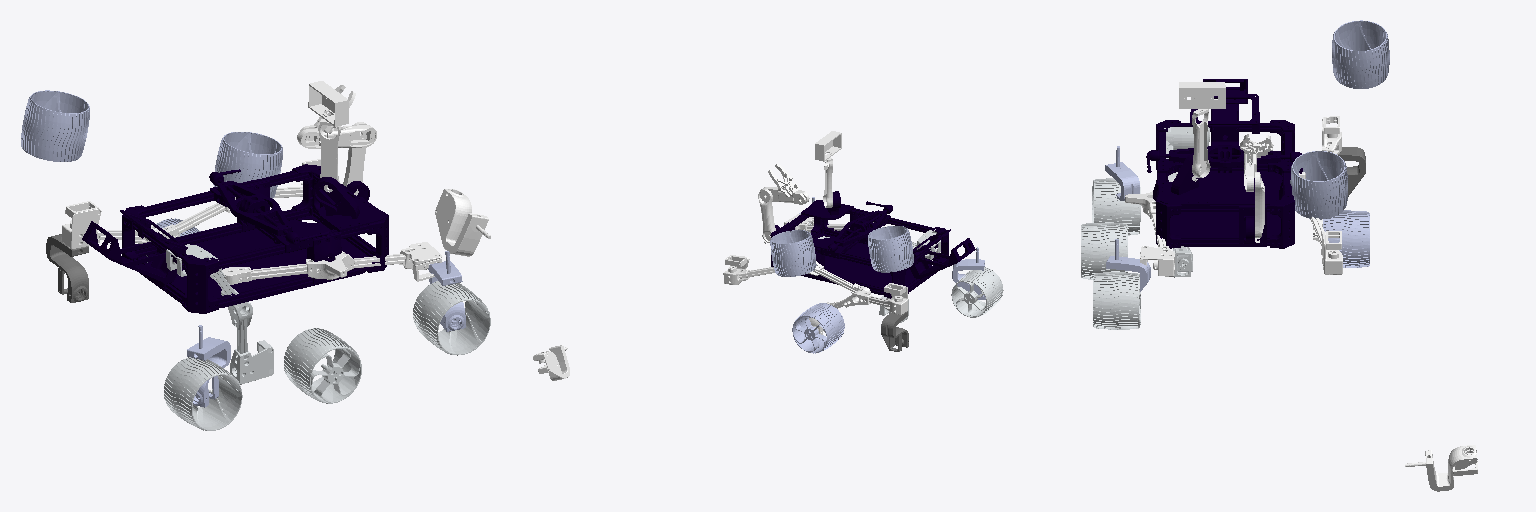
--- Render facts (derived) ---
Views: 3 orthographic renders of the robot side by side, from view 1: azimuth 30°, elevation 25°; view 2: azimuth 150°, elevation 25°; view 3: azimuth 270°, elevation 25°.
Robot: new_spirit_mars — 21 links, 20 joints (10 revolute, 10 continuous); root link RoverChassis; default pose: every joint at zero.
Links seen in each view (by area): view 1: RoverChassis, MidWheel2, WheelRS1, WheelRS2, WheelsFS2, Rocker2, Bogie2, WheelFS1, FrontSteering1, RearSteering1, Bogie1, RearSteering2 (+6 smaller); view 2: RoverChassis, WheelFS1, MidWheel1, WheelRS1, WheelRS2, Rocker1, Bogie1, FrontSteering1, RearSteering1, RearSteering2, Arm, MastHead (+1 smaller); view 3: RoverChassis, WheelRS1, WheelFS1, WheelsFS2, MidWheel2, MidWheel1, WheelRS2, FrontSteering1, Rocker2, MastHead, Bogie2, Rocker1 (+6 smaller).
Boxes of the visible links, x1,y1,x2,y2 form: RoverChassis: [82, 164, 388, 313]; MidWheel2: [284, 328, 361, 403]; WheelRS1: [21, 90, 89, 161]; WheelRS2: [164, 357, 242, 430]; WheelsFS2: [413, 281, 490, 355]; Rocker2: [222, 242, 442, 284]; Bogie2: [166, 244, 273, 384]; WheelFS1: [213, 132, 282, 198]; FrontSteering1: [435, 189, 490, 256]; RearSteering1: [46, 234, 88, 302]; Bogie1: [61, 201, 156, 248]; RearSteering2: [187, 325, 230, 407]; RoverChassis: [770, 191, 975, 298]; WheelFS1: [770, 230, 816, 276]; MidWheel1: [792, 303, 844, 353]; WheelRS1: [868, 226, 913, 272]; WheelRS2: [951, 267, 1003, 317]; Rocker1: [723, 255, 870, 293]; Bogie1: [809, 283, 907, 334]; FrontSteering1: [533, 345, 569, 380]; RearSteering1: [881, 297, 908, 351]; RearSteering2: [952, 247, 985, 299]; Arm: [758, 189, 775, 243]; MastHead: [815, 131, 841, 161]; RoverChassis: [1146, 79, 1302, 248]; WheelRS1: [1332, 20, 1389, 88]; WheelFS1: [1290, 151, 1347, 219]; WheelsFS2: [1093, 272, 1140, 329]; MidWheel2: [1081, 223, 1127, 279]; MidWheel1: [1323, 210, 1369, 267]; WheelRS2: [1092, 178, 1140, 235]; FrontSteering1: [1405, 445, 1477, 491]; Rocker2: [1125, 172, 1177, 276]; MastHead: [1179, 82, 1225, 108]; Bogie2: [1164, 127, 1209, 277]; Rocker1: [1299, 172, 1342, 274].
Size in the robot's own frame: 1.11 by 0.8534 by 0.6877 metres.
Meshes: 21 distinct files referenced, 21 mesh visuals loaded (21 binary STL).

URDF robot description (new_spirit_mars):
<?xml version="1.0" encoding="utf-8"?>
<!-- This URDF was automatically created by SolidWorks to URDF Exporter! Originally created by Stephen Brawner ([email redacted]) 
     Commit Version: 1.5.1-0-g916b5db  Build Version: 1.5.7152.31018
     For more information, please see http://wiki.ros.org/sw_urdf_exporter -->
<robot
  name="new_spirit_mars">
  <link
    name="RoverChassis">
    <inertial>
      <origin
        xyz="0.0093614 -9.9176E-05 0.050783"
        rpy="0 0 0" />
      <mass
        value="2.5513" />
      <inertia
        ixx="0.0059302"
        ixy="-2.3769E-06"
        ixz="8.4014E-05"
        iyy="0.013"
        iyz="-1.4168E-05"
        izz="0.017599" />
    </inertial>
    <visual>
      <origin
        xyz="0 0 0"
        rpy="0 0 0" />
      <geometry>
        <mesh
          filename="package://new_spirit_mars/meshes/RoverChassis.STL" />
      </geometry>
      <material
        name="">
        <color
          rgba="0.094118 0 0.20784 1" />
      </material>
    </visual>
    <collision>
      <origin
        xyz="0 0 0"
        rpy="0 0 0" />
      <geometry>
        <mesh
          filename="package://new_spirit_mars/meshes/RoverChassis.STL" />
      </geometry>
    </collision>
  </link>
  <link
    name="MastArm">
    <inertial>
      <origin
        xyz="-0.00021473 0.051397 -0.00073642"
        rpy="0 0 0" />
      <mass
        value="0.040089" />
      <inertia
        ixx="8.1919E-05"
        ixy="1.6871E-09"
        ixz="5.5106E-10"
        iyy="5.8703E-06"
        iyz="-5.4206E-07"
        izz="8.6546E-05" />
    </inertial>
    <visual>
      <origin
        xyz="0 0 0"
        rpy="0 0 0" />
      <geometry>
        <mesh
          filename="package://new_spirit_mars/meshes/MastArm.STL" />
      </geometry>
      <material
        name="">
        <color
          rgba="1 1 1 1" />
      </material>
    </visual>
    <collision>
      <origin
        xyz="0 0 0"
        rpy="0 0 0" />
      <geometry>
        <mesh
          filename="package://new_spirit_mars/meshes/MastArm.STL" />
      </geometry>
    </collision>
  </link>
  <joint
    name="RoverChassis_Mast"
    type="revolute">
    <origin
      xyz="0.13149 -0.053006 0.14751"
      rpy="1.5708 -0.0056094 2.3562" />
    <parent
      link="RoverChassis" />
    <child
      link="MastArm" />
    <axis
      xyz="0 0 -1" />
    <limit
      lower="0"
      upper="0"
      effort="0"
      velocity="0" />
  </joint>
  <link
    name="MastHead">
    <inertial>
      <origin
        xyz="-0.0013429 0.00089648 -0.022625"
        rpy="0 0 0" />
      <mass
        value="0.037642" />
      <inertia
        ixx="5.6108E-05"
        ixy="-1.2333E-09"
        ixz="7.2038E-08"
        iyy="1.6403E-05"
        iyz="8.3386E-08"
        izz="4.6655E-05" />
    </inertial>
    <visual>
      <origin
        xyz="0 0 0"
        rpy="0 0 0" />
      <geometry>
        <mesh
          filename="package://new_spirit_mars/meshes/MastHead.STL" />
      </geometry>
      <material
        name="">
        <color
          rgba="1 1 1 1" />
      </material>
    </visual>
    <collision>
      <origin
        xyz="0 0 0"
        rpy="0 0 0" />
      <geometry>
        <mesh
          filename="package://new_spirit_mars/meshes/MastHead.STL" />
      </geometry>
    </collision>
  </link>
  <joint
    name="MastArm_MastHead"
    type="revolute">
    <origin
      xyz="0.00029854 0.15045 0.004"
      rpy="1.5708 0.79479 0" />
    <parent
      link="MastArm" />
    <child
      link="MastHead" />
    <axis
      xyz="0 0 1" />
    <limit
      lower="0"
      upper="0"
      effort="0"
      velocity="0" />
  </joint>
  <link
    name="Arm">
    <inertial>
      <origin
        xyz="-0.00013011 0.057834 0.0017688"
        rpy="0 0 0" />
      <mass
        value="0.065681" />
      <inertia
        ixx="0.00010918"
        ixy="-1.6866E-09"
        ixz="2.4327E-10"
        iyy="9.2922E-06"
        iyz="2.444E-07"
        izz="0.00011408" />
    </inertial>
    <visual>
      <origin
        xyz="0 0 0"
        rpy="0 0 0" />
      <geometry>
        <mesh
          filename="package://new_spirit_mars/meshes/Arm.STL" />
      </geometry>
      <material
        name="">
        <color
          rgba="1 1 1 1" />
      </material>
    </visual>
    <collision>
      <origin
        xyz="0 0 0"
        rpy="0 0 0" />
      <geometry>
        <mesh
          filename="package://new_spirit_mars/meshes/Arm.STL" />
      </geometry>
    </collision>
  </link>
  <joint
    name="Chassis_Arm"
    type="revolute">
    <origin
      xyz="0.253051748698285 0.0704529943574704 0.0609913956856037"
      rpy="1.5707963267949 -0.130632744206875 -3.14159265358979" />
    <parent
      link="RoverChassis" />
    <child
      link="Arm" />
    <axis
      xyz="0 0 1" />
    <limit
      lower="0"
      upper="0"
      effort="0"
      velocity="0" />
  </joint>
  <link
    name="Arm2">
    <inertial>
      <origin
        xyz="0.0014503 0.03926 0.016609"
        rpy="0 0 0" />
      <mass
        value="0.051274" />
      <inertia
        ixx="5.5647E-05"
        ixy="-1.4498E-06"
        ixz="-8.8093E-09"
        iyy="9.5179E-06"
        iyz="-2.9315E-07"
        izz="5.9312E-05" />
    </inertial>
    <visual>
      <origin
        xyz="0 0 0"
        rpy="0 0 0" />
      <geometry>
        <mesh
          filename="package://new_spirit_mars/meshes/Arm2.STL" />
      </geometry>
      <material
        name="">
        <color
          rgba="1 1 1 1" />
      </material>
    </visual>
    <collision>
      <origin
        xyz="0 0 0"
        rpy="0 0 0" />
      <geometry>
        <mesh
          filename="package://new_spirit_mars/meshes/Arm2.STL" />
      </geometry>
    </collision>
  </link>
  <joint
    name="Arm_Arm2"
    type="revolute">
    <origin
      xyz="0 0.11924 0"
      rpy="-3.1416 0 1.5708" />
    <parent
      link="Arm" />
    <child
      link="Arm2" />
    <axis
      xyz="0 0 -1" />
    <limit
      lower="0"
      upper="0"
      effort="0"
      velocity="0" />
  </joint>
  <link
    name="Arm3">
    <inertial>
      <origin
        xyz="0.0050459 -0.0052647 -0.017841"
        rpy="0 0 0" />
      <mass
        value="0.016829" />
      <inertia
        ixx="3.9904E-06"
        ixy="-4.0705E-09"
        ixz="-1.1789E-08"
        iyy="5.1228E-06"
        iyz="-5.8731E-07"
        izz="2.6647E-06" />
    </inertial>
    <visual>
      <origin
        xyz="0 0 0"
        rpy="0 0 0" />
      <geometry>
        <mesh
          filename="package://new_spirit_mars/meshes/Arm3.STL" />
      </geometry>
      <material
        name="">
        <color
          rgba="1 1 1 1" />
      </material>
    </visual>
    <collision>
      <origin
        xyz="0 0 0"
        rpy="0 0 0" />
      <geometry>
        <mesh
          filename="package://new_spirit_mars/meshes/Arm3.STL" />
      </geometry>
    </collision>
  </link>
  <joint
    name="Arm2_Arm3"
    type="revolute">
    <origin
      xyz="-0.00231376659955707 0.0917099175886816 0.0167"
      rpy="1.5707963267949 0.0495995429747262 -0.0298514149555396" />
    <parent
      link="Arm2" />
    <child
      link="Arm3" />
    <axis
      xyz="0 0 1" />
    <limit
      lower="0"
      upper="0"
      effort="0"
      velocity="0" />
  </joint>
  <link
    name="EFE">
    <inertial>
      <origin
        xyz="0.035646 -0.03828 0.00179"
        rpy="0 0 0" />
      <mass
        value="0.035617" />
      <inertia
        ixx="7.9239E-06"
        ixy="5.0355E-06"
        ixz="-9.5166E-07"
        iyy="8.5973E-06"
        iyz="1.1051E-06"
        izz="1.1584E-05" />
    </inertial>
    <visual>
      <origin
        xyz="0 0 0"
        rpy="0 0 0" />
      <geometry>
        <mesh
          filename="package://new_spirit_mars/meshes/EFE.STL" />
      </geometry>
      <material
        name="">
        <color
          rgba="1 1 1 1" />
      </material>
    </visual>
    <collision>
      <origin
        xyz="0 0 0"
        rpy="0 0 0" />
      <geometry>
        <mesh
          filename="package://new_spirit_mars/meshes/EFE.STL" />
      </geometry>
    </collision>
  </link>
  <joint
    name="Arm3_EFE"
    type="revolute">
    <origin
      xyz="0.005 -0.014 -0.0279999999985077"
      rpy="-1.5707963267949 0 0" />
    <parent
      link="Arm3" />
    <child
      link="EFE" />
    <axis
      xyz="0 0 -1" />
    <limit
      lower="0"
      upper="0"
      effort="0"
      velocity="0" />
  </joint>
  <link
    name="Rocker1">
    <inertial>
      <origin
        xyz="-0.050037 -0.023664 0.036781"
        rpy="0 0 0" />
      <mass
        value="0.29452" />
      <inertia
        ixx="0.00010836"
        ixy="-1.9106E-06"
        ixz="4.7399E-05"
        iyy="0.00035209"
        iyz="2.0093E-05"
        izz="0.00038621" />
    </inertial>
    <visual>
      <origin
        xyz="0 0 0"
        rpy="0 0 0" />
      <geometry>
        <mesh
          filename="package://new_spirit_mars/meshes/Rocker1.STL" />
      </geometry>
      <material
        name="">
        <color
          rgba="1 1 1 1" />
      </material>
    </visual>
    <collision>
      <origin
        xyz="0 0 0"
        rpy="0 0 0" />
      <geometry>
        <mesh
          filename="package://new_spirit_mars/meshes/Rocker1.STL" />
      </geometry>
    </collision>
  </link>
  <joint
    name="Chassis_Rocker1"
    type="continuous">
    <origin
      xyz="0.073 0.1572 0.0527"
      rpy="1.5708 -0.073241 -3.1416" />
    <parent
      link="RoverChassis" />
    <child
      link="Rocker1" />
    <axis
      xyz="0 0 -1" />
    <limit
      lower="0"
      upper="0"
      effort="0"
      velocity="0" />
  </joint>
  <link
    name="Bogie1">
    <inertial>
      <origin
        xyz="0.017556 0.0078829 0.040966"
        rpy="0 0 0" />
      <mass
        value="0.28915" />
      <inertia
        ixx="0.0002275"
        ixy="2.9536E-05"
        ixz="-2.5079E-05"
        iyy="0.00014962"
        iyz="-1.5329E-05"
        izz="0.00020374" />
    </inertial>
    <visual>
      <origin
        xyz="0 0 0"
        rpy="0 0 0" />
      <geometry>
        <mesh
          filename="package://new_spirit_mars/meshes/Bogie1.STL" />
      </geometry>
      <material
        name="">
        <color
          rgba="1 1 1 1" />
      </material>
    </visual>
    <collision>
      <origin
        xyz="0 0 0"
        rpy="0 0 0" />
      <geometry>
        <mesh
          filename="package://new_spirit_mars/meshes/Bogie1.STL" />
      </geometry>
    </collision>
  </link>
  <joint
    name="Rocker1_Bogie1"
    type="continuous">
    <origin
      xyz="0.180999685953205 -0.0619998924263396 0.0226999999994359"
      rpy="0 0 -1.5707963267949" />
    <parent
      link="Rocker1" />
    <child
      link="Bogie1" />
    <axis
      xyz="0 0 1" />
    <limit
      lower="0"
      upper="0"
      effort="0"
      velocity="0" />
  </joint>
  <link
    name="MidWheel1">
    <inertial>
      <origin
        xyz="-1.00097760736412E-05 -1.7549813208631E-05 -0.0391473582429716"
        rpy="0 0 0" />
      <mass
        value="0.121635456546398" />
      <inertia
        ixx="0.000257155753097487"
        ixy="4.92178958474824E-09"
        ixz="4.65649359439084E-10"
        iyy="0.00025715474822993"
        iyz="-2.18199010808682E-09"
        izz="0.00032279802977436" />
    </inertial>
    <visual>
      <origin
        xyz="0 0 0"
        rpy="0 0 0" />
      <geometry>
        <mesh
          filename="package://new_spirit_mars/meshes/MidWheel1.STL" />
      </geometry>
      <material
        name="">
        <color
          rgba="0.792156862745098 0.819607843137255 0.933333333333333 1" />
      </material>
    </visual>
    <collision>
      <origin
        xyz="0 0 0"
        rpy="0 0 0" />
      <geometry>
        <mesh
          filename="package://new_spirit_mars/meshes/MidWheel1.STL" />
      </geometry>
    </collision>
  </link>
  <joint
    name="Bogie1_MW1"
    type="continuous">
    <origin
      xyz="0.0869482106774486 -0.103155541790304 0.130899998852721"
      rpy="0 0 0.865693911327975" />
    <parent
      link="Bogie1" />
    <child
      link="MidWheel1" />
    <axis
      xyz="0 0 1" />
  </joint>
  <link
    name="RearSteering1">
    <inertial>
      <origin
        xyz="-0.00422334190750609 -0.0199529774661564 -0.0790388602924965"
        rpy="0 0 0" />
      <mass
        value="0.142145566427233" />
      <inertia
        ixx="0.000234346128308017"
        ixy="-1.40951343398391E-05"
        ixz="2.32468332009533E-06"
        iyy="0.000147571755564679"
        iyz="4.87561458509139E-05"
        izz="0.000131998625605861" />
    </inertial>
    <visual>
      <origin
        xyz="0 0 0"
        rpy="0 0 0" />
      <geometry>
        <mesh
          filename="package://new_spirit_mars/meshes/RearSteering1.STL" />
      </geometry>
      <material
        name="">
        <color
          rgba="0.498039215686275 0.498039215686275 0.498039215686275 1" />
      </material>
    </visual>
    <collision>
      <origin
        xyz="0 0 0"
        rpy="0 0 0" />
      <geometry>
        <mesh
          filename="package://new_spirit_mars/meshes/RearSteering1.STL" />
      </geometry>
    </collision>
  </link>
  <joint
    name="Bogie1_RS1"
    type="revolute">
    <origin
      xyz="-0.0257730882832044 0.150552819672626 0.0503310877983017"
      rpy="-1.59518110347134 0.192038010266344 1.51476049572154" />
    <parent
      link="Bogie1" />
    <child
      link="RearSteering1" />
    <axis
      xyz="0 0 -1" />
    <limit
      lower="0"
      upper="0"
      effort="0"
      velocity="0" />
  </joint>
  <link
    name="WheelRS1">
    <inertial>
      <origin
        xyz="3.35987398888959E-06 -9.91969171384999E-06 -0.0391475708881186"
        rpy="0 0 0" />
      <mass
        value="0.121634395963816" />
      <inertia
        ixx="0.000257161144220671"
        ixy="2.1354818745808E-09"
        ixz="-6.7876992009368E-10"
        iyy="0.000257148215998535"
        iyz="-2.76349276868951E-09"
        izz="0.000322797785838331" />
    </inertial>
    <visual>
      <origin
        xyz="0 0 0"
        rpy="0 0 0" />
      <geometry>
        <mesh
          filename="package://new_spirit_mars/meshes/WheelRS1.STL" />
      </geometry>
      <material
        name="">
        <color
          rgba="0.792156862745098 0.819607843137255 0.933333333333333 1" />
      </material>
    </visual>
    <collision>
      <origin
        xyz="0 0 0"
        rpy="0 0 0" />
      <geometry>
        <mesh
          filename="package://new_spirit_mars/meshes/WheelRS1.STL" />
      </geometry>
    </collision>
  </link>
  <joint
    name="RS1_WHeelRS1"
    type="continuous">
    <origin
      xyz="0.0081708 0.049328 -0.13087"
      rpy="1.5708 -1.4045 2.9805" />
    <parent
      link="RearSteering1" />
    <child
      link="WheelRS1" />
    <axis
      xyz="0 0 -1" />
  </joint>
  <link
    name="FrontSteering1">
    <inertial>
      <origin
        xyz="0.00198903207560586 0.0202978331365523 -0.0790455109517943"
        rpy="0 0 0" />
      <mass
        value="0.142148375854442" />
      <inertia
        ixx="0.000236376652504394"
        ixy="-4.17060009261255E-06"
        ixz="3.10445945005631E-06"
        iyy="0.000145531559669667"
        iyz="-4.87125877429576E-05"
        izz="0.000132009378586939" />
    </inertial>
    <visual>
      <origin
        xyz="0 0 0"
        rpy="0 0 0" />
      <geometry>
        <mesh
          filename="package://new_spirit_mars/meshes/FrontSteering1.STL" />
      </geometry>
      <material
        name="">
        <color
          rgba="1 1 1 1" />
      </material>
    </visual>
    <collision>
      <origin
        xyz="0 0 0"
        rpy="0 0 0" />
      <geometry>
        <mesh
          filename="package://new_spirit_mars/meshes/FrontSteering1.STL" />
      </geometry>
    </collision>
  </link>
  <joint
    name="Rocker1_FS1"
    type="revolute">
    <origin
      xyz="-0.211672796800495 -0.0289412092543823 0.0760067485203597"
      rpy="1.56801817837417 -0.126468861634388 -3.14123445081466" />
    <parent
      link="Rocker1" />
    <child
      link="FrontSteering1" />
    <axis
      xyz="0 0 1" />
    <limit
      lower="0"
      upper="0"
      effort="0"
      velocity="0" />
  </joint>
  <link
    name="WheelFS1">
    <inertial>
      <origin
        xyz="2.04926562190622E-05 -5.0253471550743E-08 -0.0391469827747634"
        rpy="0 0 0" />
      <mass
        value="0.121634363451582" />
      <inertia
        ixx="0.000257160590216909"
        ixy="2.53636887261353E-09"
        ixz="-8.84649293601917E-12"
        iyy="0.000257147953642745"
        iyz="-2.8414083982703E-09"
        izz="0.000322797808936208" />
    </inertial>
    <visual>
      <origin
        xyz="0 0 0"
        rpy="0 0 0" />
      <geometry>
        <mesh
          filename="package://new_spirit_mars/meshes/WheelFS1.STL" />
      </geometry>
      <material
        name="">
        <color
          rgba="0.792156862745098 0.819607843137255 0.933333333333333 1" />
      </material>
    </visual>
    <collision>
      <origin
        xyz="0 0 0"
        rpy="0 0 0" />
      <geometry>
        <mesh
          filename="package://new_spirit_mars/meshes/WheelFS1.STL" />
      </geometry>
    </collision>
  </link>
  <joint
    name="FS1_WheelFS1"
    type="continuous">
    <origin
      xyz="-0.00253456678339498 -0.0499357397038631 -0.131194605457668"
      rpy="1.57079632679491 -1.33800948212218 -0.049790288634686" />
    <parent
      link="FrontSteering1" />
    <child
      link="WheelFS1" />
    <axis
      xyz="0 0 1" />
  </joint>
  <link
    name="Rocker2">
    <inertial>
      <origin
        xyz="-0.050032 0.023664 0.036785"
        rpy="0 0 0" />
      <mass
        value="0.29452" />
      <inertia
        ixx="0.00010834"
        ixy="1.9104E-06"
        ixz="4.7402E-05"
        iyy="0.00035209"
        iyz="-2.0093E-05"
        izz="0.00038622" />
    </inertial>
    <visual>
      <origin
        xyz="0 0 0"
        rpy="1.5707 0 0" />
      <geometry>
        <mesh
          filename="package://new_spirit_mars/meshes/Rocker2.STL" />
      </geometry>
      <material
        name="">
        <color
          rgba="1 1 1 1" />
      </material>
    </visual>
    <collision>
      <origin
        xyz="0 0 0"
        rpy="0 0 0" />
      <geometry>
        <mesh
          filename="package://new_spirit_mars/meshes/Rocker2.STL" />
      </geometry>
    </collision>
  </link>
  <joint
    name="Chasiss_Rocker2"
    type="continuous">
    <origin
      xyz="0.073 -0.1572 0.0527"
      rpy="-1.5708 0.073342 -3.1416" />
    <parent
      link="RoverChassis" />
    <child
      link="Rocker2" />
    <axis
      xyz="0 0 -1" />
    <limit
      lower="0"
      upper="0"
      effort="0"
      velocity="0" />
  </joint>
  <link
    name="Bogie2">
    <inertial>
      <origin
        xyz="0.0096552 0.016648 0.060952"
        rpy="0 0 0" />
      <mass
        value="0.28916" />
      <inertia
        ixx="0.00015652"
        ixy="3.69E-05"
        ixz="-1.7843E-05"
        iyy="0.00022061"
        iyz="-2.3369E-05"
        izz="0.00020375" />
    </inertial>
    <visual>
      <origin
        xyz="0 0 0"
        rpy="0 0 0" />
      <geometry>
        <mesh
          filename="package://new_spirit_mars/meshes/Bogie2.STL" />
      </geometry>
      <material
        name="">
        <color
          rgba="0.89804 0.91765 0.92941 1" />
      </material>
    </visual>
    <collision>
      <origin
        xyz="0 0 0"
        rpy="0 0 0" />
      <geometry>
        <mesh
          filename="package://new_spirit_mars/meshes/Bogie2.STL" />
      </geometry>
    </collision>
  </link>
  <joint
    name="Rocker2_Bogie2"
    type="continuous">
    <origin
      xyz="0.180999685955288 0.0619998924230409 0.00270000000285972"
      rpy="0 0 0" />
    <parent
      link="Rocker2" />
    <child
      link="Bogie2" />
    <axis
      xyz="0 0 -1" />
    <limit
      lower="0"
      upper="0"
      effort="0"
      velocity="0" />
  </joint>
  <link
    name="MidWheel2">
    <inertial>
      <origin
        xyz="2.1358150938313E-05 -1.56490550163452E-05 -0.0386688982970209"
        rpy="0 0 0" />
      <mass
        value="0.125822865739578" />
      <inertia
        ixx="0.000258026205662039"
        ixy="-2.74904979008728E-09"
        ixz="-1.45058477661596E-09"
        iyy="0.000258013206444936"
        iyz="1.05758605400458E-09"
        izz="0.000322795683780587" />
    </inertial>
    <visual>
      <origin
        xyz="0 0 0"
        rpy="0 0 0" />
      <geometry>
        <mesh
          filename="package://new_spirit_mars/meshes/MidWheel2.STL" />
      </geometry>
      <material
        name="">
        <color
          rgba="0.898039215686275 0.917647058823529 0.929411764705882 1" />
      </material>
    </visual>
    <collision>
      <origin
        xyz="0 0 0"
        rpy="0 0 0" />
      <geometry>
        <mesh
          filename="package://new_spirit_mars/meshes/MidWheel2.STL" />
      </geometry>
    </collision>
  </link>
  <joint
    name="Bogie2_MW2"
    type="continuous">
    <origin
      xyz="-0.0939371315502092 0.0973703592993591 0.149400000000058"
      rpy="0 0 -0.302685933437432" />
    <parent
      link="Bogie2" />
    <child
      link="MidWheel2" />
    <axis
      xyz="0 0 1" />
  </joint>
  <link
    name="RearSteering2">
    <inertial>
      <origin
        xyz="0.0092945588904586 0.0181820861520627 -0.0790354331432768"
        rpy="0 0 0" />
      <mass
        value="0.142141326995898" />
      <inertia
        ixx="0.000213729236438896"
        ixy="-3.952277731969E-05"
        ixz="-2.88856062629526E-05"
        iyy="0.000168175173433327"
        iyz="-3.93403173720442E-05"
        izz="0.000131991707849784" />
    </inertial>
    <visual>
      <origin
        xyz="0 0 0"
        rpy="0 0 0" />
      <geometry>
        <mesh
          filename="package://new_spirit_mars/meshes/RearSteering2.STL" />
      </geometry>
      <material
        name="">
        <color
          rgba="0.792156862745098 0.819607843137255 0.933333333333333 1" />
      </material>
    </visual>
    <collision>
      <origin
        xyz="0 0 0"
        rpy="0 0 0" />
      <geometry>
        <mesh
          filename="package://new_spirit_mars/meshes/RearSteering2.STL" />
      </geometry>
    </collision>
  </link>
  <joint
    name="Bogie2_RS2"
    type="revolute">
    <origin
      xyz="0.14709247763711 -0.0411607389706367 0.070331086997081"
      rpy="1.59902656395361 -0.558724110595196 -0.0668908914708698" />
    <parent
      link="Bogie2" />
    <child
      link="RearSteering2" />
    <axis
      xyz="0 0 1" />
    <limit
      lower="0"
      upper="0"
      effort="0"
      velocity="0" />
  </joint>
  <link
    name="WheelRS2">
    <inertial>
      <origin
        xyz="-5.48896118138242E-06 1.43610157684049E-05 -0.0386689061615327"
        rpy="0 0 0" />
      <mass
        value="0.125823228579159" />
      <inertia
        ixx="0.000258029063456796"
        ixy="4.31986102568717E-09"
        ixz="-2.24912670829532E-09"
        iyy="0.00025801309264078"
        iyz="8.32756899534465E-10"
        izz="0.000322796409798318" />
    </inertial>
    <visual>
      <origin
        xyz="0 0 0"
        rpy="0 0 0" />
      <geometry>
        <mesh
          filename="package://new_spirit_mars/meshes/WheelRS2.STL" />
      </geometry>
      <material
        name="">
        <color
          rgba="0.898039215686275 0.917647058823529 0.929411764705882 1" />
      </material>
    </visual>
    <collision>
      <origin
        xyz="0 0 0"
        rpy="0 0 0" />
      <geometry>
        <mesh
          filename="package://new_spirit_mars/meshes/WheelRS2.STL" />
      </geometry>
    </collision>
  </link>
  <joint
    name="RS2_WheelRS2"
    type="continuous">
    <origin
      xyz="-0.024177 -0.04262 -0.13104"
      rpy="1.5708 -1.5023 -0.52001" />
    <parent
      link="RearSteering2" />
    <child
      link="WheelRS2" />
    <axis
      xyz="0 0 1" />
  </joint>
  <link
    name="FrontSteering2">
    <inertial>
      <origin
        xyz="0.0120385311622508 -0.0164642596401307 -0.0790275004579461"
        rpy="0 0 0" />
      <mass
        value="0.14214442284229" />
      <inertia
        ixx="0.000209195778059599"
        ixy="4.18029723765835E-05"
        ixz="-2.21170591370971E-05"
        iyy="0.000172702162395656"
        iyz="4.35069516267105E-05"
        izz="0.000132000981095209" />
    </inertial>
    <visual>
      <origin
        xyz="0 0 0"
        rpy="0 0 0" />
      <geometry>
        <mesh
          filename="package://new_spirit_mars/meshes/FrontSteering2.STL" />
      </geometry>
      <material
        name="">
        <color
          rgba="0.792156862745098 0.819607843137255 0.933333333333333 1" />
      </material>
    </visual>
    <collision>
      <origin
        xyz="0 0 0"
        rpy="0 0 0" />
      <geometry>
        <mesh
          filename="package://new_spirit_mars/meshes/FrontSteering2.STL" />
      </geometry>
    </collision>
  </link>
  <joint
    name="Rocker2_FS2"
    type="revolute">
    <origin
      xyz="-0.21167 0.028941 0.076007"
      rpy="-1.5674 -0.62594 3.1396" />
    <parent
      link="Rocker2" />
    <child
      link="FrontSteering2" />
    <axis
      xyz="0 0 1" />
    <limit
      lower="0"
      upper="0"
      effort="0"
      velocity="0" />
  </joint>
  <link
    name="WheelsFS2">
    <inertial>
      <origin
        xyz="-2.3871814258114E-05 -1.02232363739518E-05 -0.0386682194061028"
        rpy="0 0 0" />
      <mass
        value="0.125823334364886" />
      <inertia
        ixx="0.000258028039075968"
        ixy="6.58567022185992E-09"
        ixz="-9.51957485967972E-10"
        iyy="0.000258028748622919"
        iyz="5.17285642417056E-10"
        izz="0.000322800145224384" />
    </inertial>
    <visual>
      <origin
        xyz="0 0 0"
        rpy="0 0 0" />
      <geometry>
        <mesh
          filename="package://new_spirit_mars/meshes/WheelsFS2.STL" />
      </geometry>
      <material
        name="">
        <color
          rgba="0.898039215686275 0.917647058823529 0.929411764705882 1" />
      </material>
    </visual>
    <collision>
      <origin
        xyz="0 0 0"
        rpy="0 0 0" />
      <geometry>
        <mesh
          filename="package://new_spirit_mars/meshes/WheelsFS2.STL" />
      </geometry>
    </collision>
  </link>
  <joint
    name="FS2_WheelsFS2"
    type="continuous">
    <origin
      xyz="-0.027711 0.041619 -0.13106"
      rpy="1.5708 0.70491 -2.558" />
    <parent
      link="FrontSteering2" />
    <child
      link="WheelsFS2" />
    <axis
      xyz="0 0 1" />
  </joint>
</robot>
